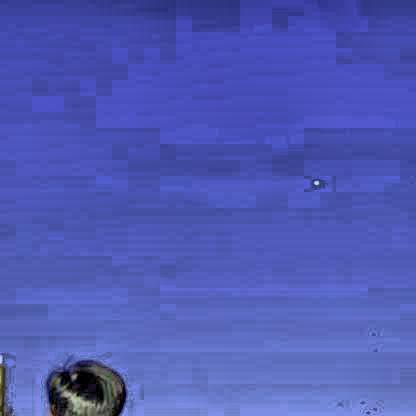golfball: (309, 176, 319, 186)
